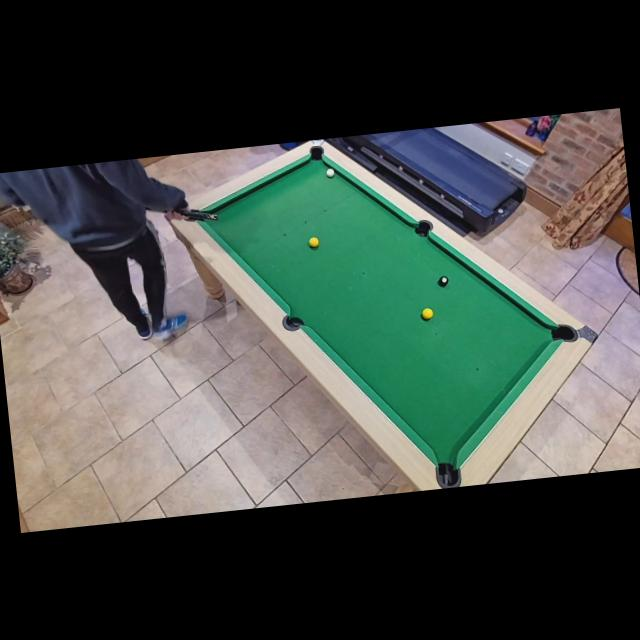Ball: (308, 236, 320, 248), (438, 274, 449, 286), (422, 308, 432, 320), (326, 168, 335, 178)
